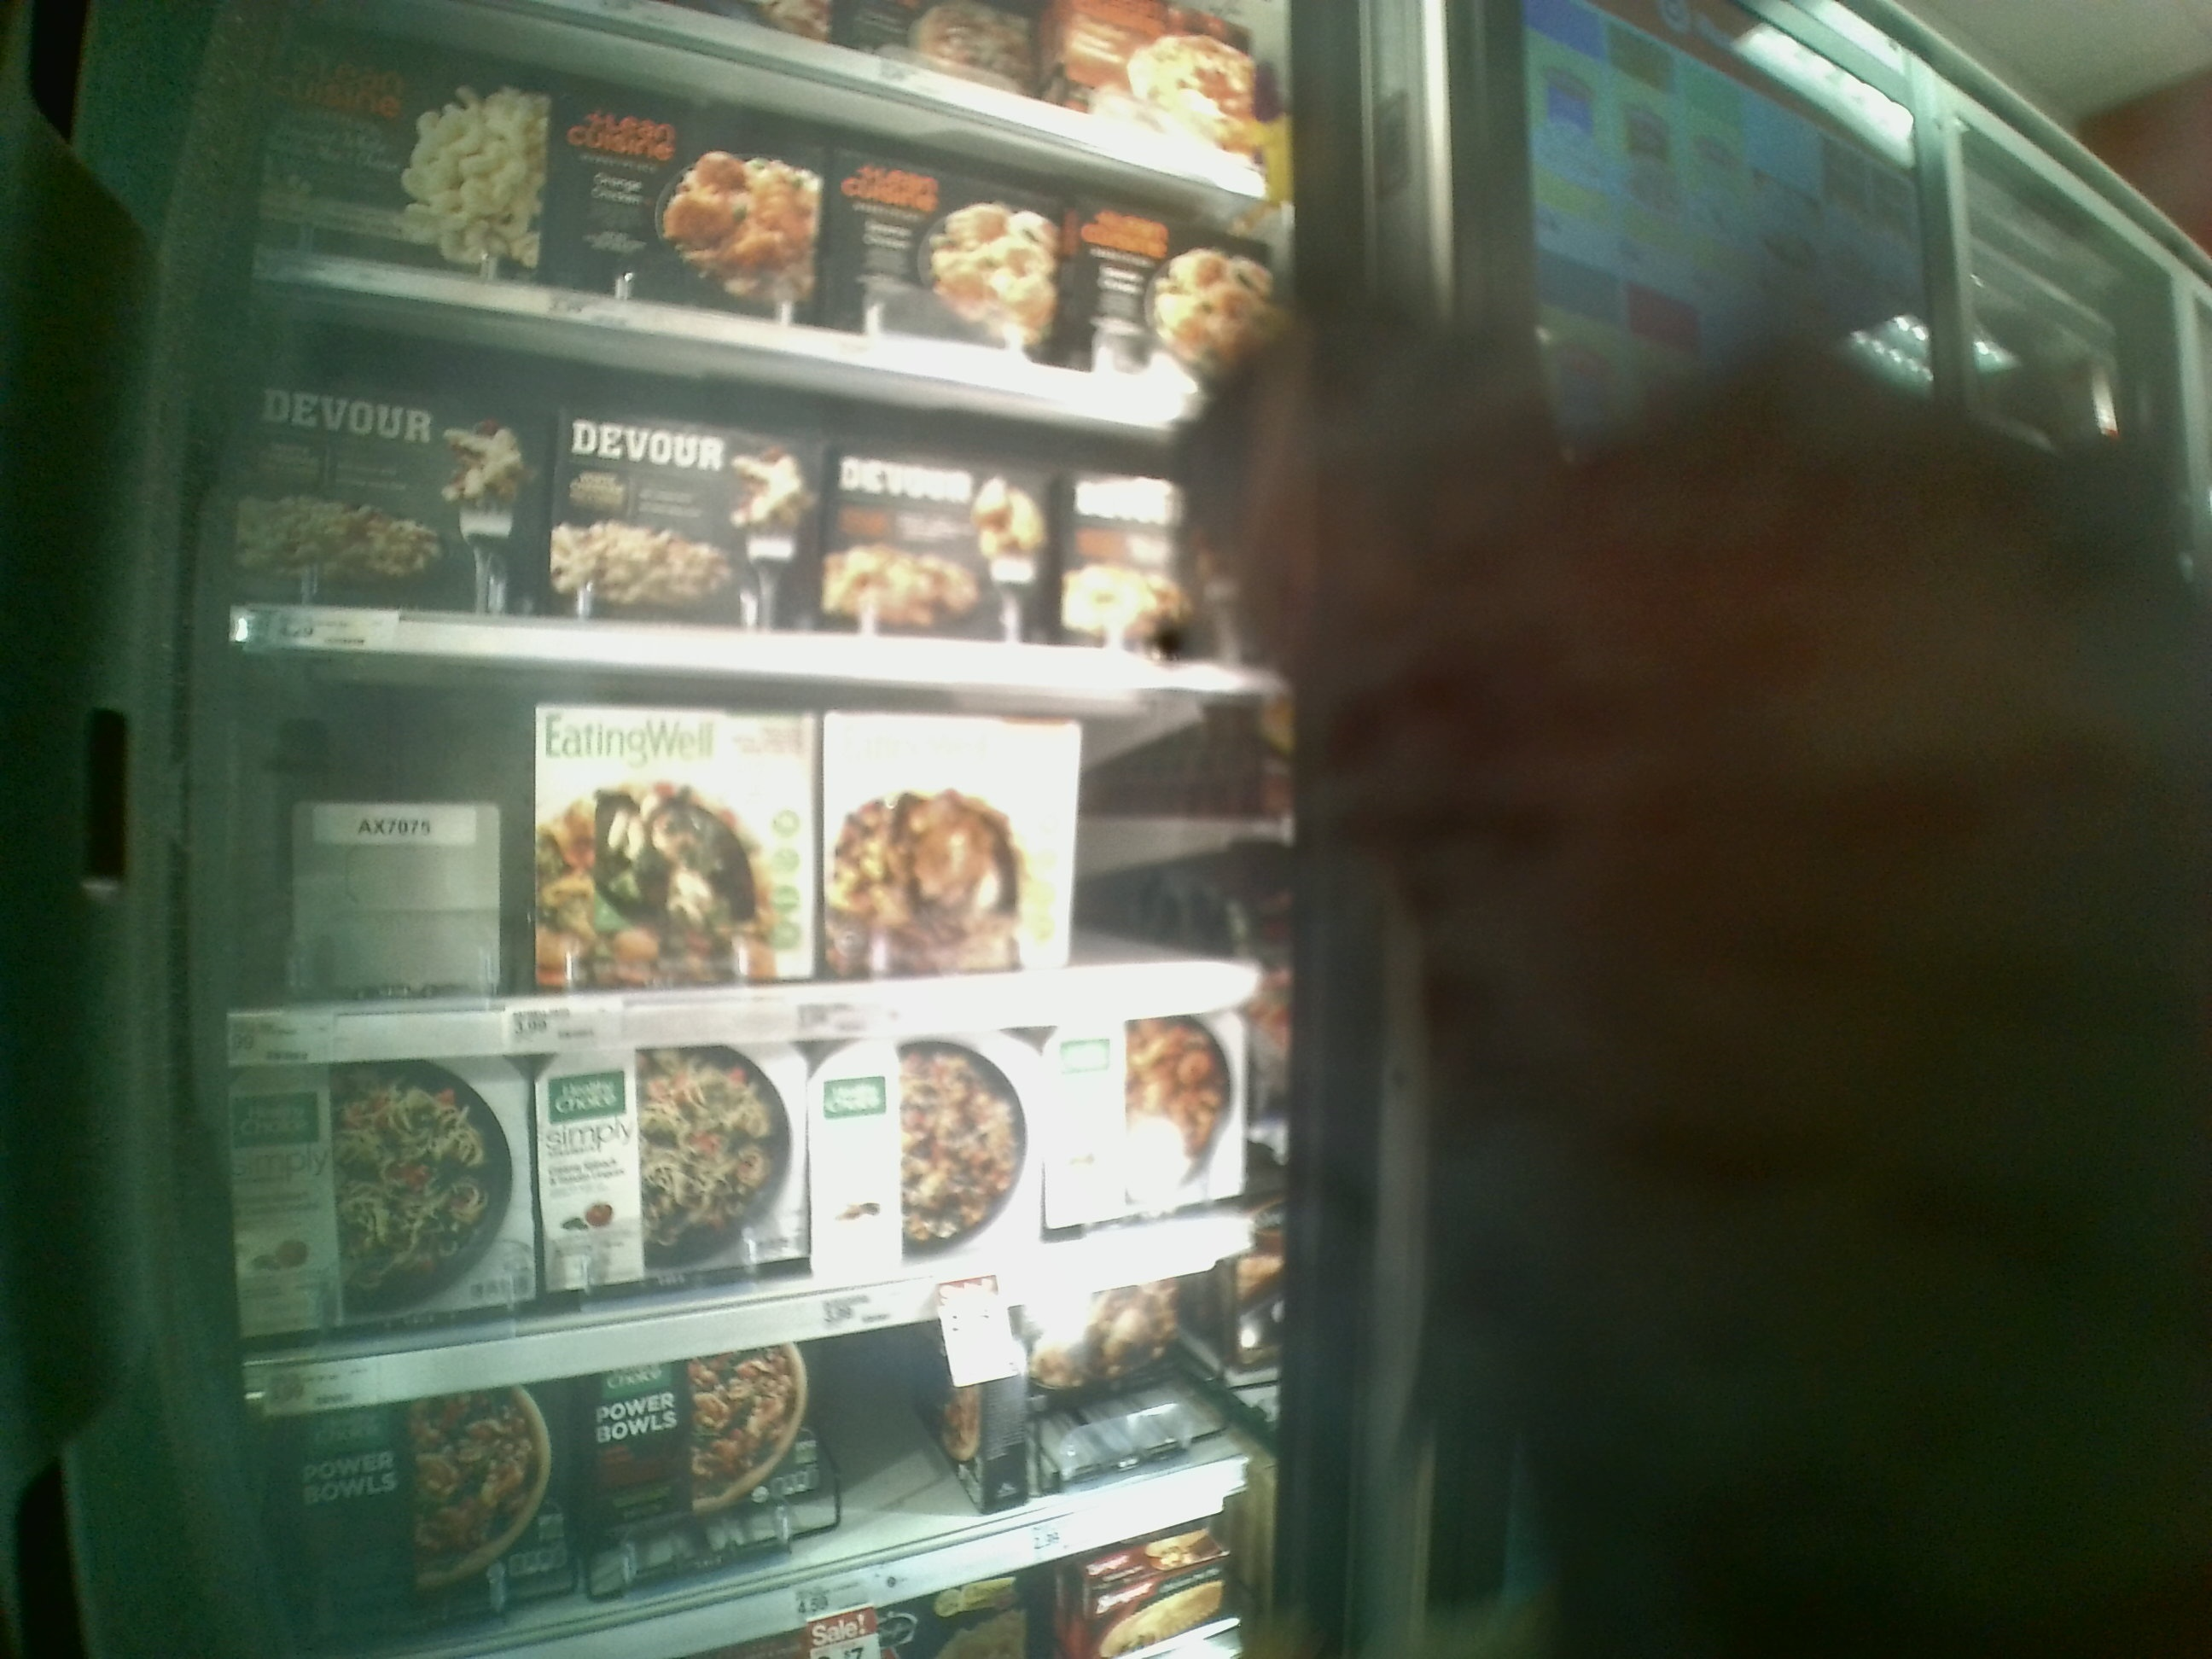pizza: (536, 687, 827, 993), (235, 1054, 528, 1331), (289, 1377, 596, 1619), (244, 369, 533, 615), (275, 38, 542, 289), (819, 709, 1073, 969), (533, 1046, 813, 1281), (568, 91, 813, 326), (810, 1040, 1057, 1267), (557, 411, 819, 624), (822, 148, 1073, 352), (582, 1364, 829, 1563), (819, 441, 1054, 641), (1059, 1023, 1237, 1234), (1085, 211, 1285, 364)
